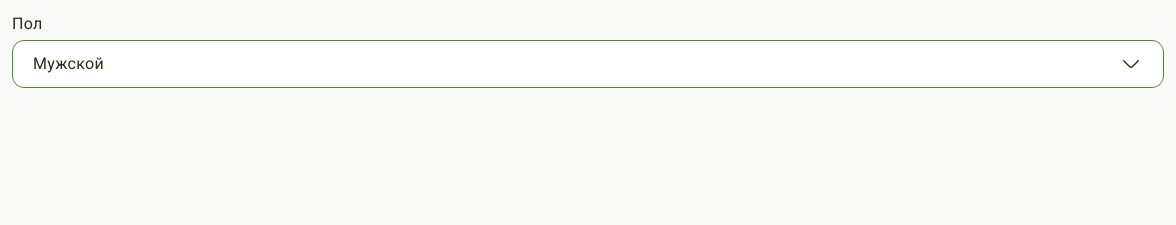
Scenario: Select › передаёт null при выборе «Не указан»
Click the dropdown at coordinates (69, 64), box [12,40,1164,88]
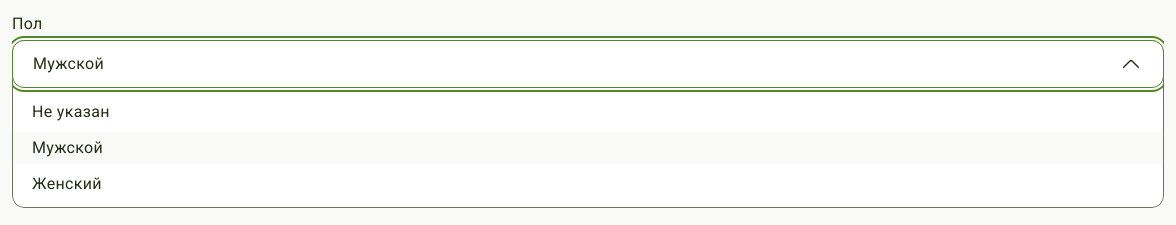
Click the option "Не указан" at coordinates (71, 112), box [32,102,110,121]
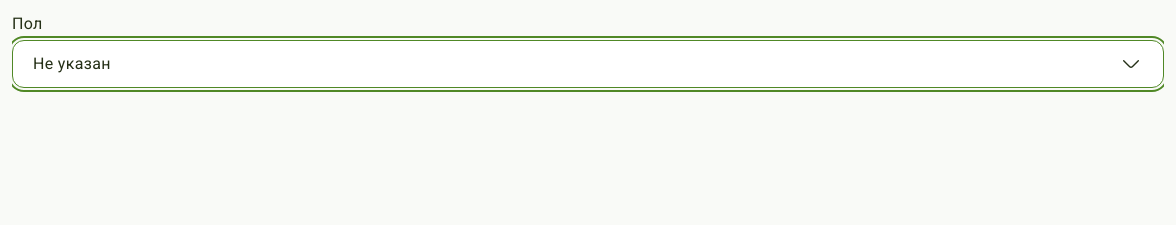
Expected: the dropdown reads "Не указан", [12,40,1164,88]
